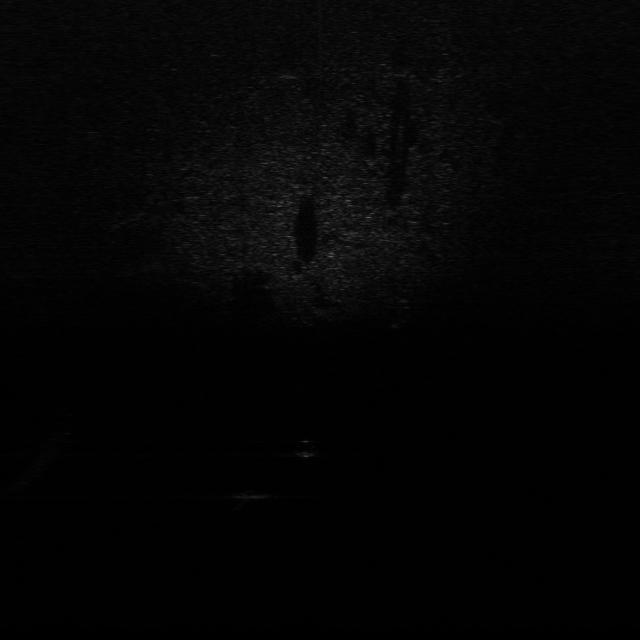ball: (290, 436, 324, 459)
square cage: (222, 487, 279, 505)
tyre: (383, 298, 419, 331)
